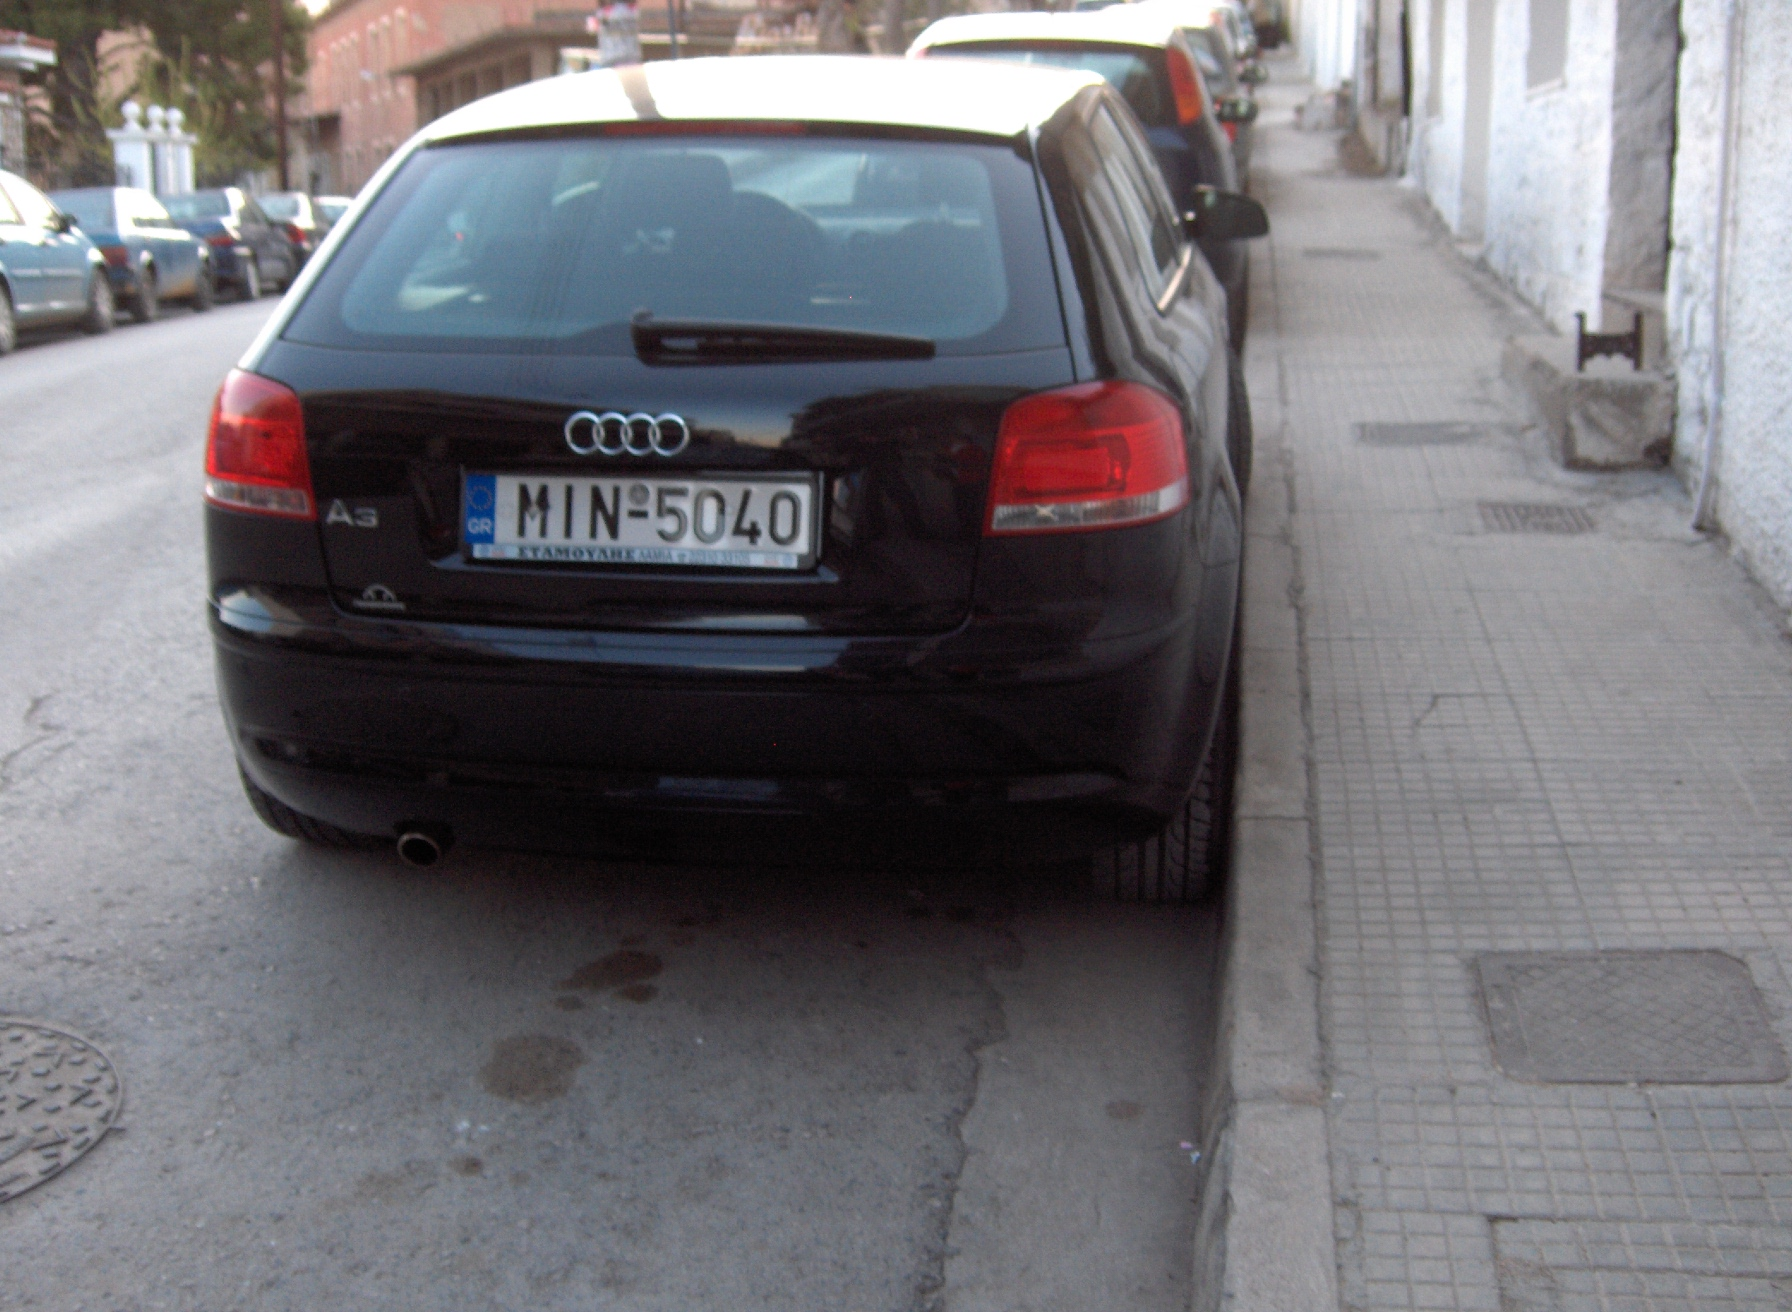licenseplate: (456, 468, 823, 563)
